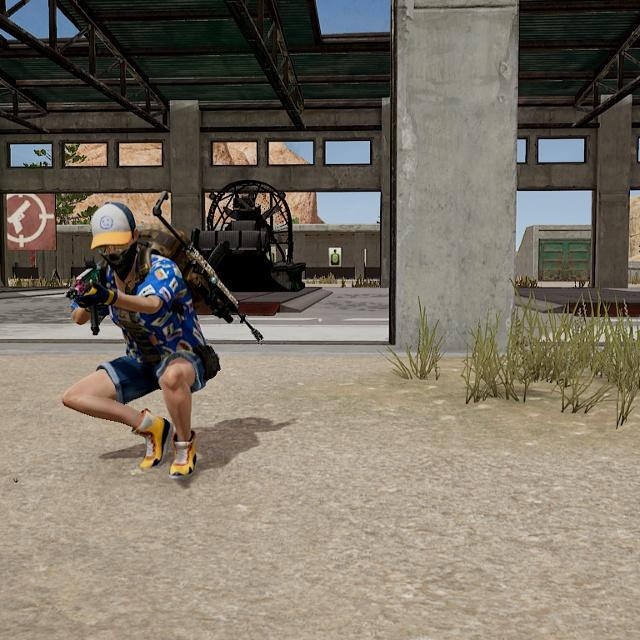head: (85, 200, 145, 273)
people: (51, 200, 232, 487)
